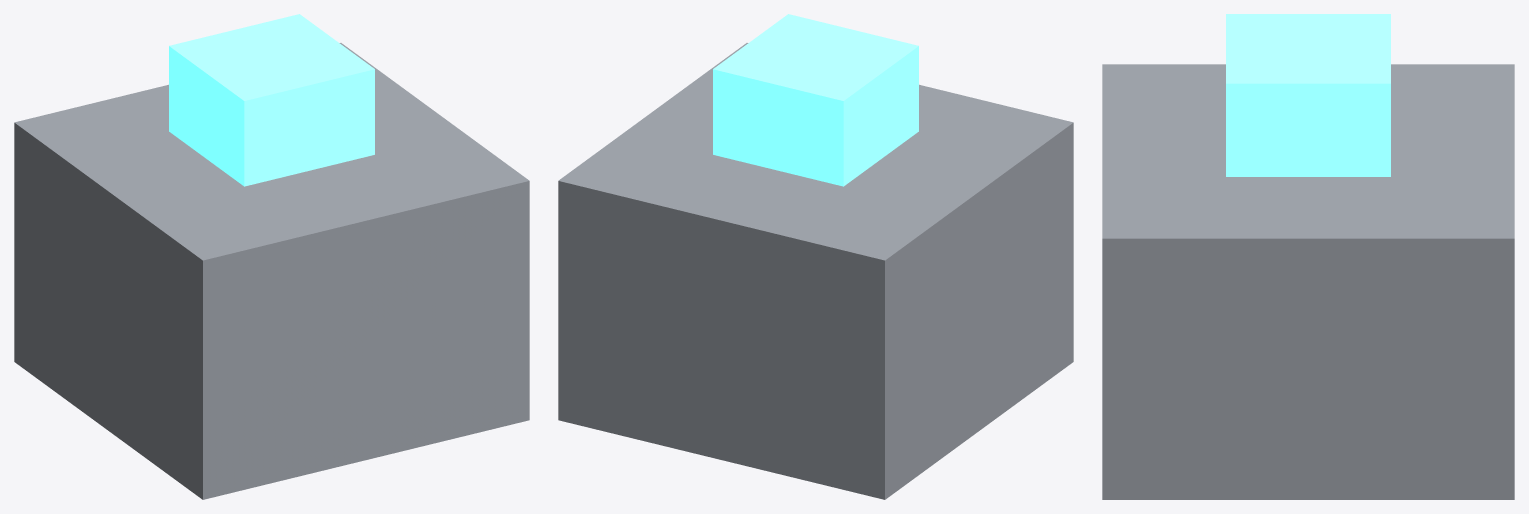
The model's file is sample-crate.glb.
3 views of the same model, side by side, from view 1: azimuth 30°, elevation 25°; view 2: azimuth 150°, elevation 25°; view 3: azimuth 270°, elevation 25° (orthographic). The views are drawn at different scales.
Parts seen in each view (by area): view 1: crate; view 2: crate; view 3: crate.
Boxes of the visible parts, x1,y1,x2,y2 form: crate: [14, 14, 529, 499]; crate: [558, 14, 1073, 499]; crate: [1102, 14, 1514, 499].
Size of the model in its own units: 2 by 1.95 by 2.
